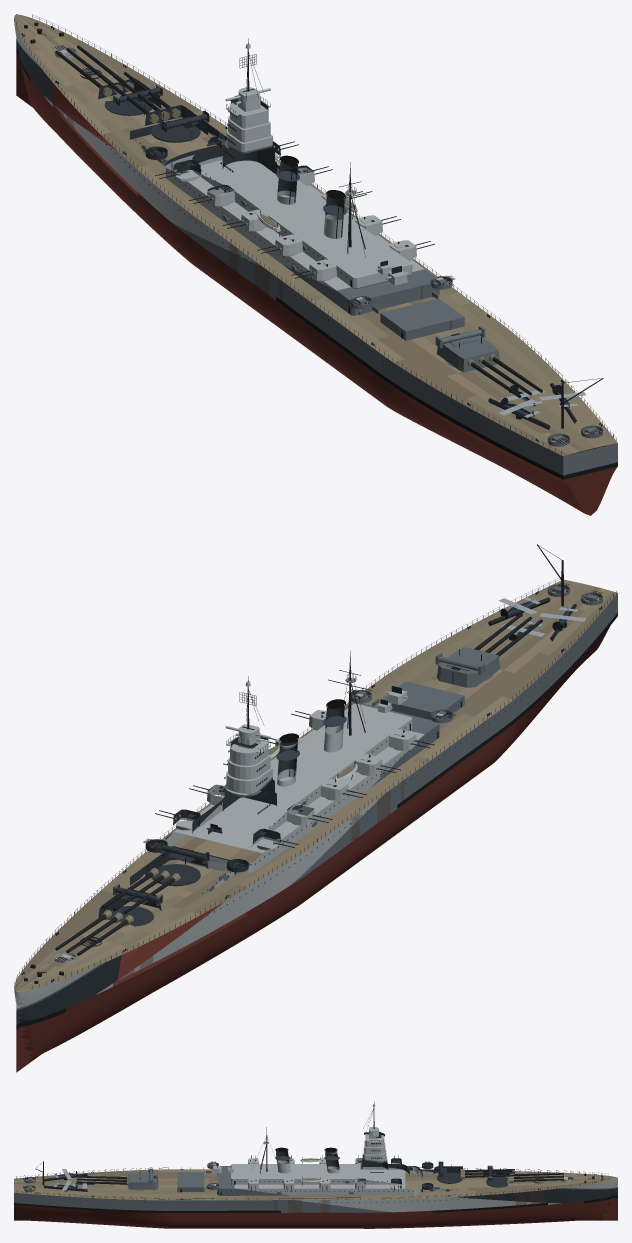
The model's file is iowa_m22.glb.
3 views of the same model, one above another, from view 1: azimuth 30°, elevation 25°; view 2: azimuth 150°, elevation 25°; view 3: azimuth 270°, elevation 25° (orthographic). The views are drawn at different scales.
Parts seen in each view (by area): view 1: Hull, Turret3, Turret2, Turret1; view 2: Hull, Turret3, Turret2, Turret1; view 3: Hull, Turret3, Turret2, Turret1.
Part boxes in pixels (bbox=[...]): Hull: bbox=[14, 14, 617, 515]; Turret3: bbox=[435, 326, 542, 397]; Turret2: bbox=[102, 72, 209, 142]; Turret1: bbox=[55, 45, 162, 115]; Hull: bbox=[14, 544, 617, 1072]; Turret3: bbox=[435, 614, 542, 687]; Turret2: bbox=[102, 841, 209, 913]; Turret1: bbox=[55, 883, 162, 955]; Hull: bbox=[14, 1101, 617, 1228]; Turret3: bbox=[76, 1168, 158, 1190]; Turret2: bbox=[433, 1161, 514, 1183]; Turret1: bbox=[482, 1165, 563, 1187].
Bounding box in the file's own units: 38 × 58.95 × 270.
